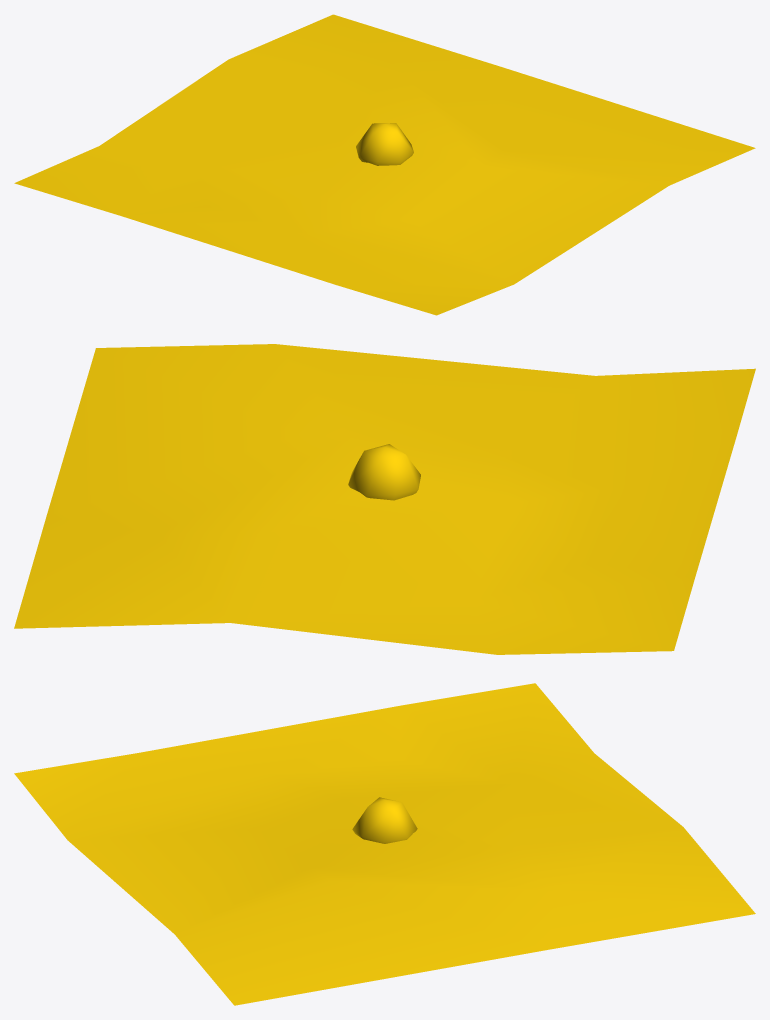
File: penalty_flag_lod1.glb
The picture shows the model from 3 angles, top to bottom: view 1: azimuth 30°, elevation 25°; view 2: azimuth 150°, elevation 25°; view 3: azimuth 270°, elevation 25°; orthographic projection. The views are drawn at different scales.
Visible parts, largest first — view 1: penalty_flag__prop_yellow; view 2: penalty_flag__prop_yellow; view 3: penalty_flag__prop_yellow.
Part boxes in pixels (x1=…): penalty_flag__prop_yellow: x1=14, y1=14, x2=755, y2=315; penalty_flag__prop_yellow: x1=14, y1=344, x2=755, y2=654; penalty_flag__prop_yellow: x1=14, y1=683, x2=755, y2=1005.
Bounding box in the file's own units: 0.5242 × 0.0439 × 0.5242.
